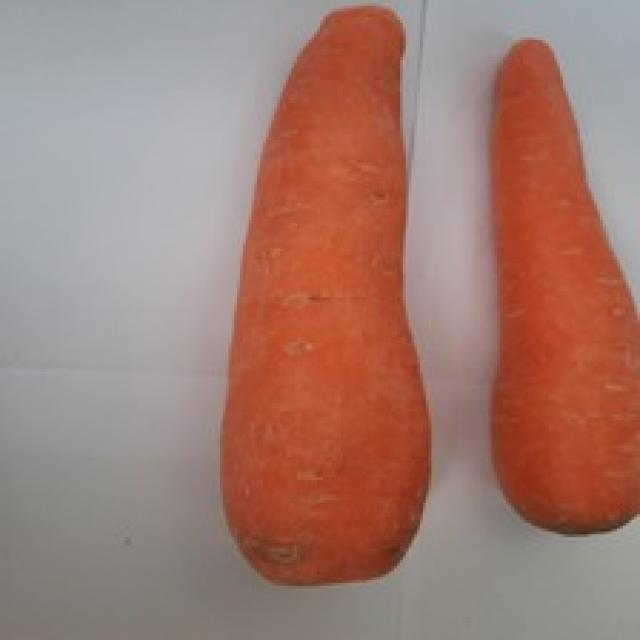carrot: (223, 6, 432, 584), (489, 35, 640, 533)
